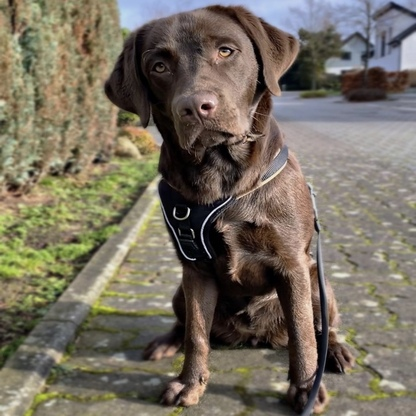labrado: (100, 1, 363, 416)
